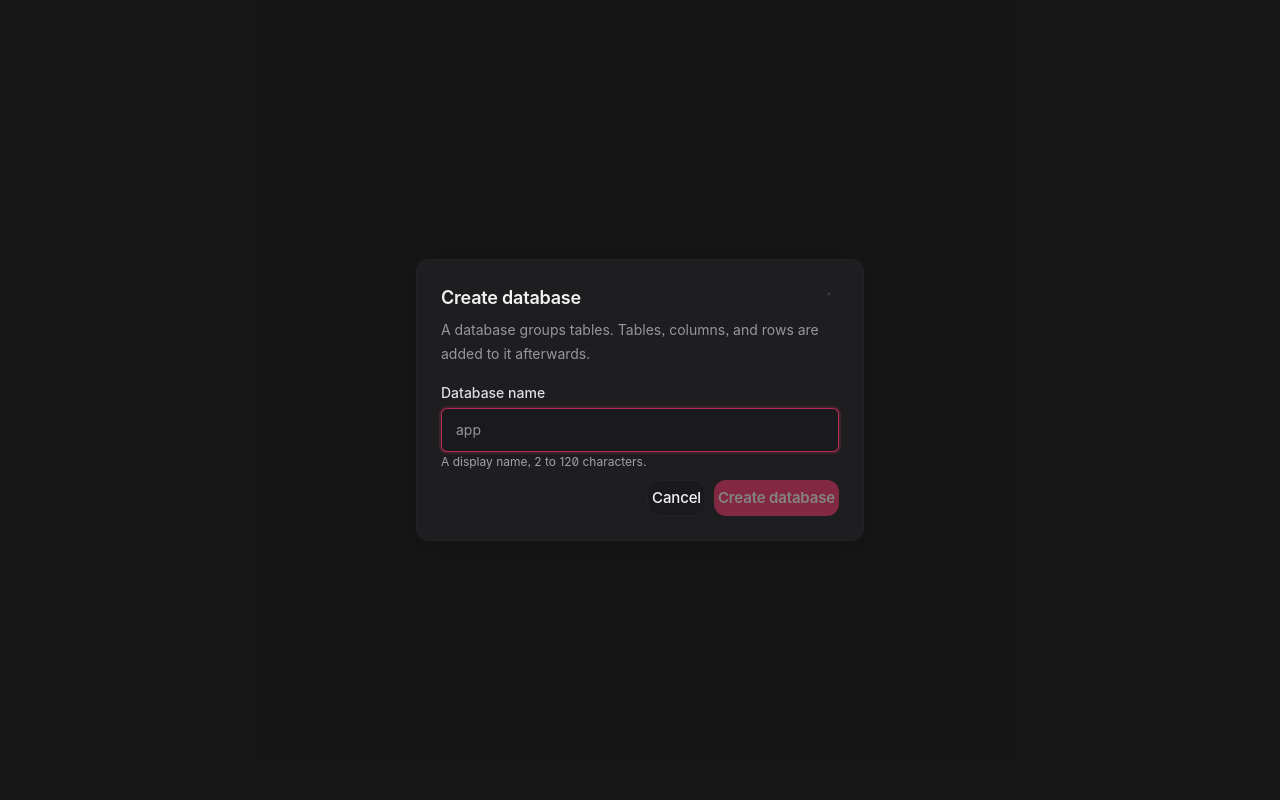
Test: CreateDatabaseDialog › keeps the name as typed instead of forcing a slug
The width and height of the screenshot is (1280, 800).
Type "Customer Orders" into the field labelled "Database name" at x=640, y=430, box [441,408,839,452]
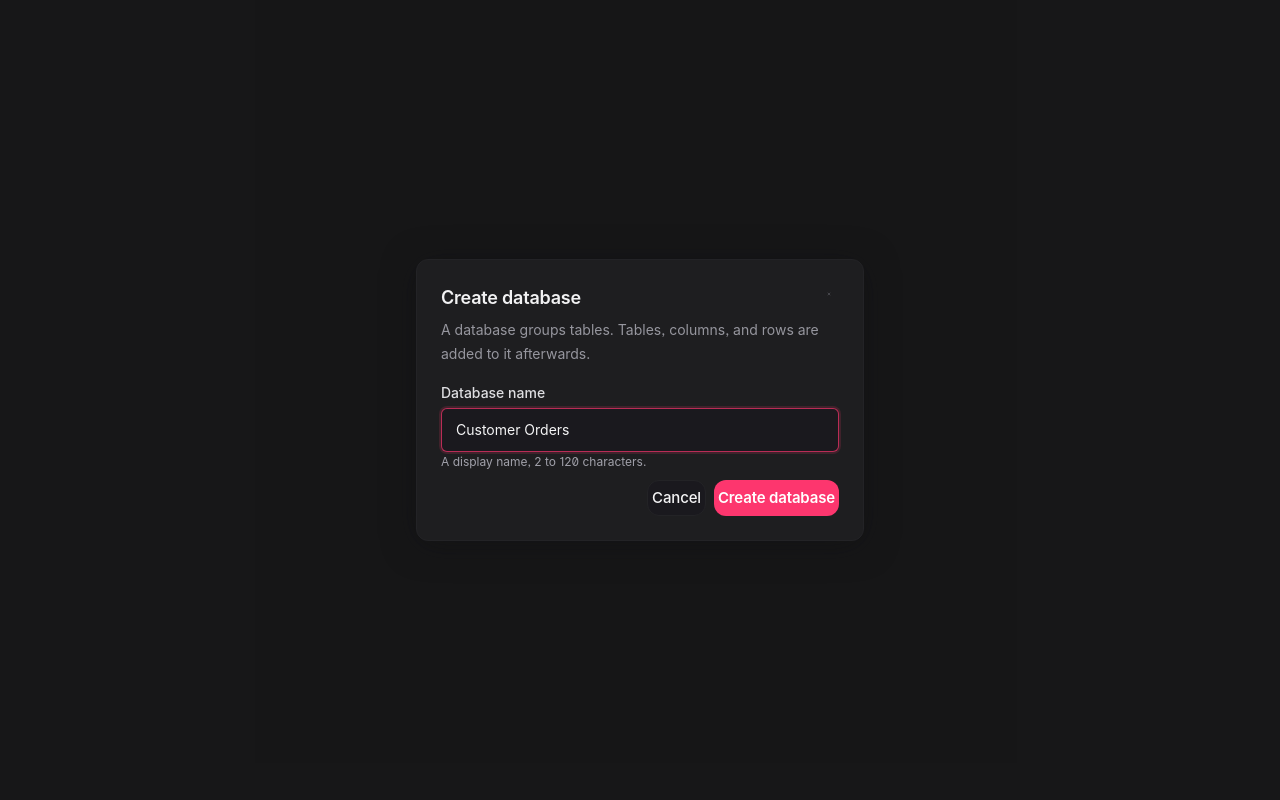
expect the button "Create database" is enabled: met, box [714,480,839,516]
